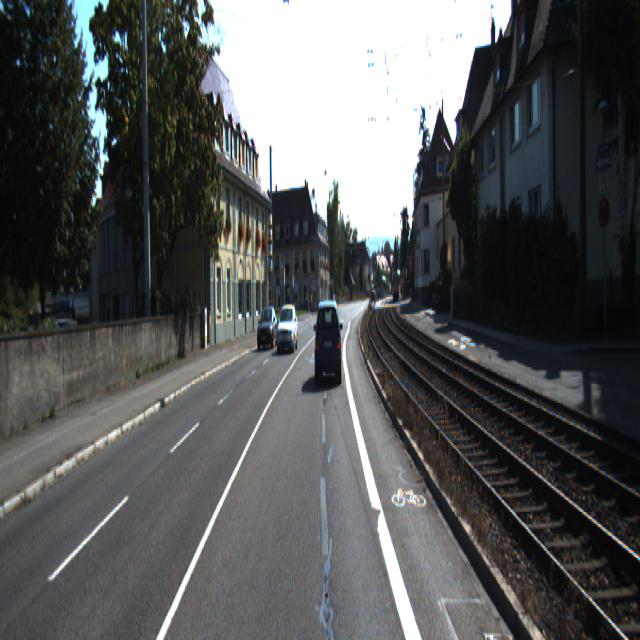Car: (314, 298, 342, 386), (276, 304, 298, 353), (256, 306, 278, 351)
